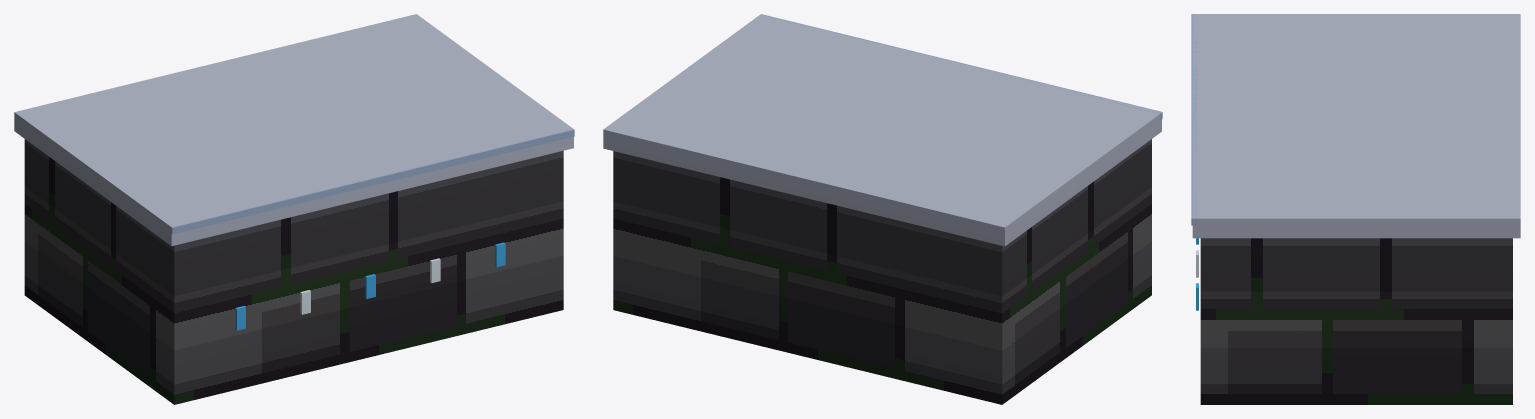
The model's file is mist_ledge.glb.
The picture shows the model from 3 angles, left to right: view 1: azimuth 30°, elevation 25°; view 2: azimuth 150°, elevation 25°; view 3: azimuth 270°, elevation 25°; orthographic projection. The views are drawn at different scales.
Visible parts, largest first — view 1: mist_ledge; view 2: mist_ledge; view 3: mist_ledge.
Boxes of the visible parts, <box> form: mist_ledge: <box>14,14,574,404</box>; mist_ledge: <box>603,14,1162,404</box>; mist_ledge: <box>1191,14,1520,404</box>.
Bounding box in the file's own units: 3.1 × 1.34 × 2.11.
3 materials, 1 textured.
